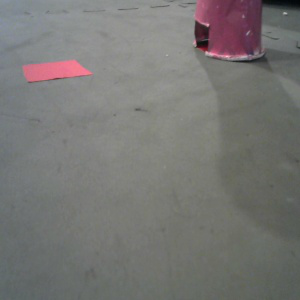right: (193, 1, 265, 60)
